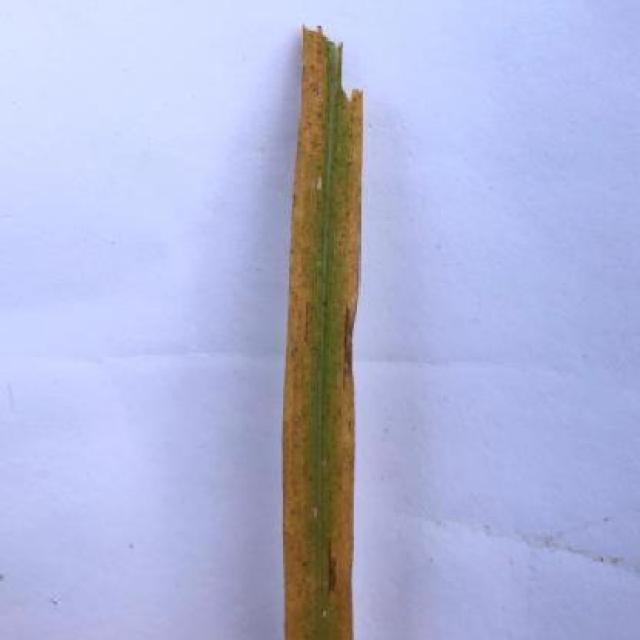Rice False Smut: (283, 28, 362, 639)
